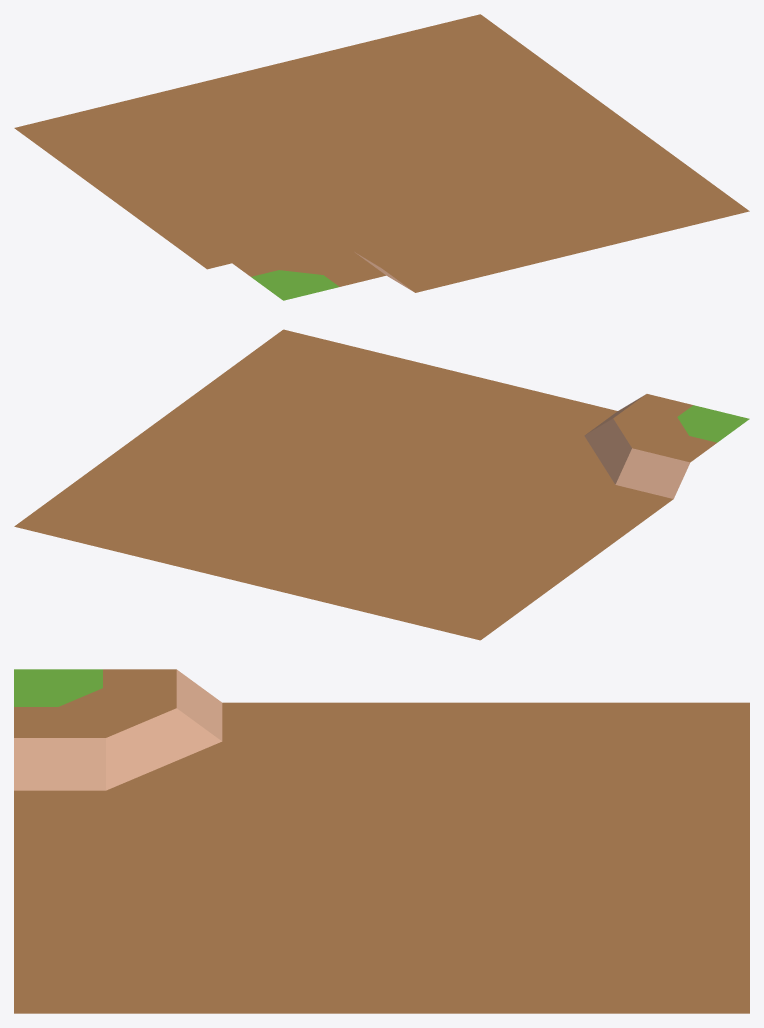
File: ground_pathCornerSmall.glb
The picture shows the model from 3 angles, top to bottom: view 1: azimuth 30°, elevation 25°; view 2: azimuth 150°, elevation 25°; view 3: azimuth 270°, elevation 25°; orthographic projection. The views are drawn at different scales.
Visible parts, largest first — view 1: ground_pathCornerSmall; view 2: ground_pathCornerSmall; view 3: ground_pathCornerSmall.
Boxes of the visible parts, x1=… form: ground_pathCornerSmall: x1=14, y1=14, x2=749, y2=300; ground_pathCornerSmall: x1=14, y1=329, x2=749, y2=640; ground_pathCornerSmall: x1=14, y1=669, x2=749, y2=1013.
Bounding box in the file's own units: 1 × 0.05 × 1.
